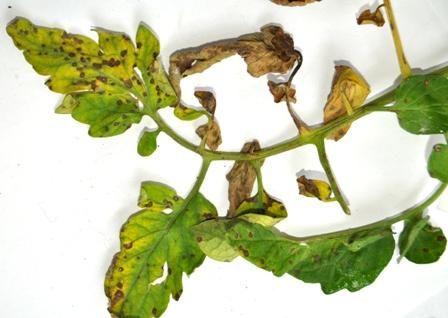Tomato Septoria leaf spot: (188, 199, 405, 299), (1, 14, 174, 136), (100, 176, 226, 315)
